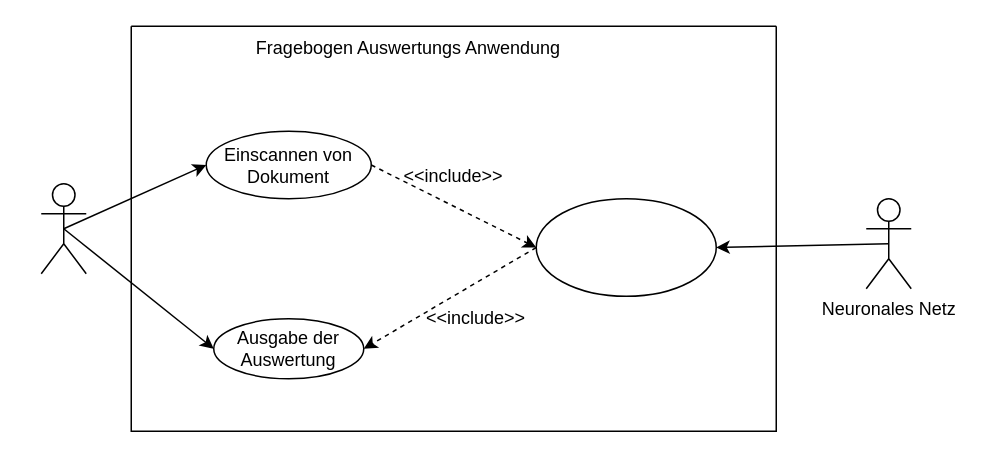
Image size: 981x458. Some labels were removed from this diagram. The centre of each missing label's shape, as x and y in pixels:
"Benutzter" goes at pixel 63 228.
"Neuronales Netz wertet Informationen aus" goes at pixel 625 246.
